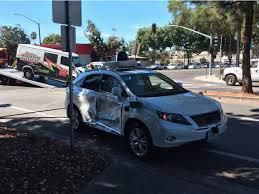doorouter-dent: (93, 92, 124, 126)
fender-dent: (132, 101, 157, 123)
